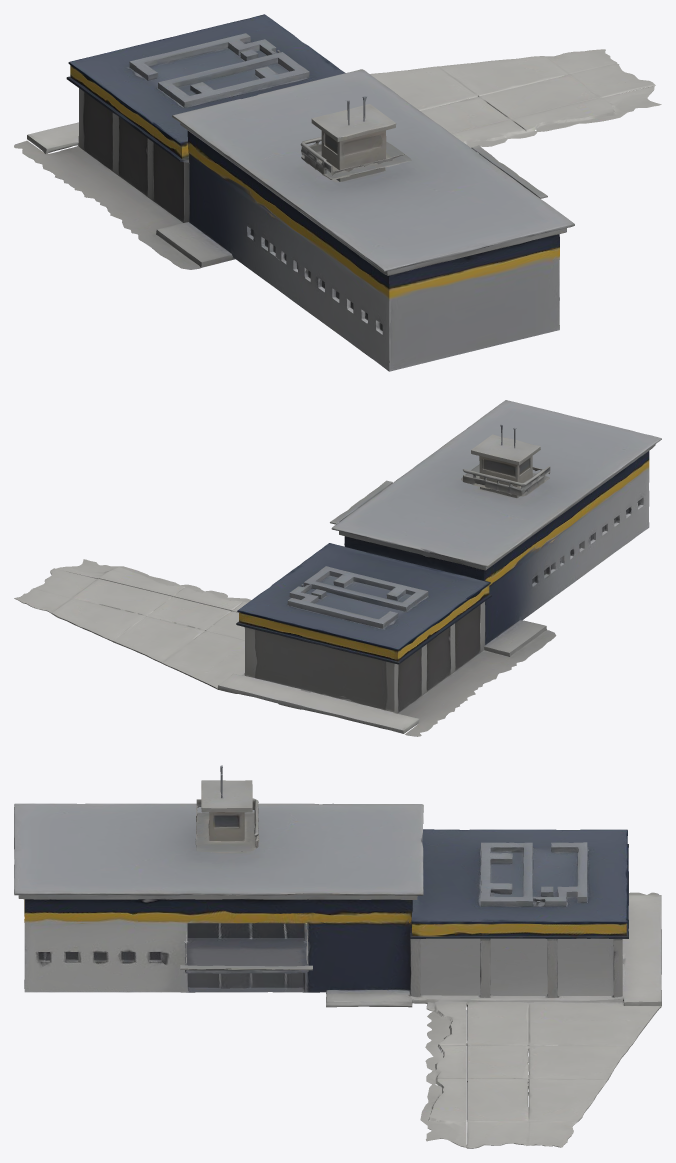
File: predio_prf.glb
3 renders of one model, top to bottom at view 1: azimuth 30°, elevation 25°; view 2: azimuth 150°, elevation 25°; view 3: azimuth 270°, elevation 25°, orthographic. The views are drawn at different scales.
Visible parts, largest first — view 1: tripo_node_3a0dff9e-100b-4c38-b827-4b941322ed30; view 2: tripo_node_3a0dff9e-100b-4c38-b827-4b941322ed30; view 3: tripo_node_3a0dff9e-100b-4c38-b827-4b941322ed30.
Part boxes in pixels (<box>): tripo_node_3a0dff9e-100b-4c38-b827-4b941322ed30: <box>14,14,661,371</box>; tripo_node_3a0dff9e-100b-4c38-b827-4b941322ed30: <box>14,400,661,736</box>; tripo_node_3a0dff9e-100b-4c38-b827-4b941322ed30: <box>14,765,661,1148</box>.
Bounding box in the file's own units: 0.9359 × 0.3032 × 0.9994.
1 material, 1 textured.
